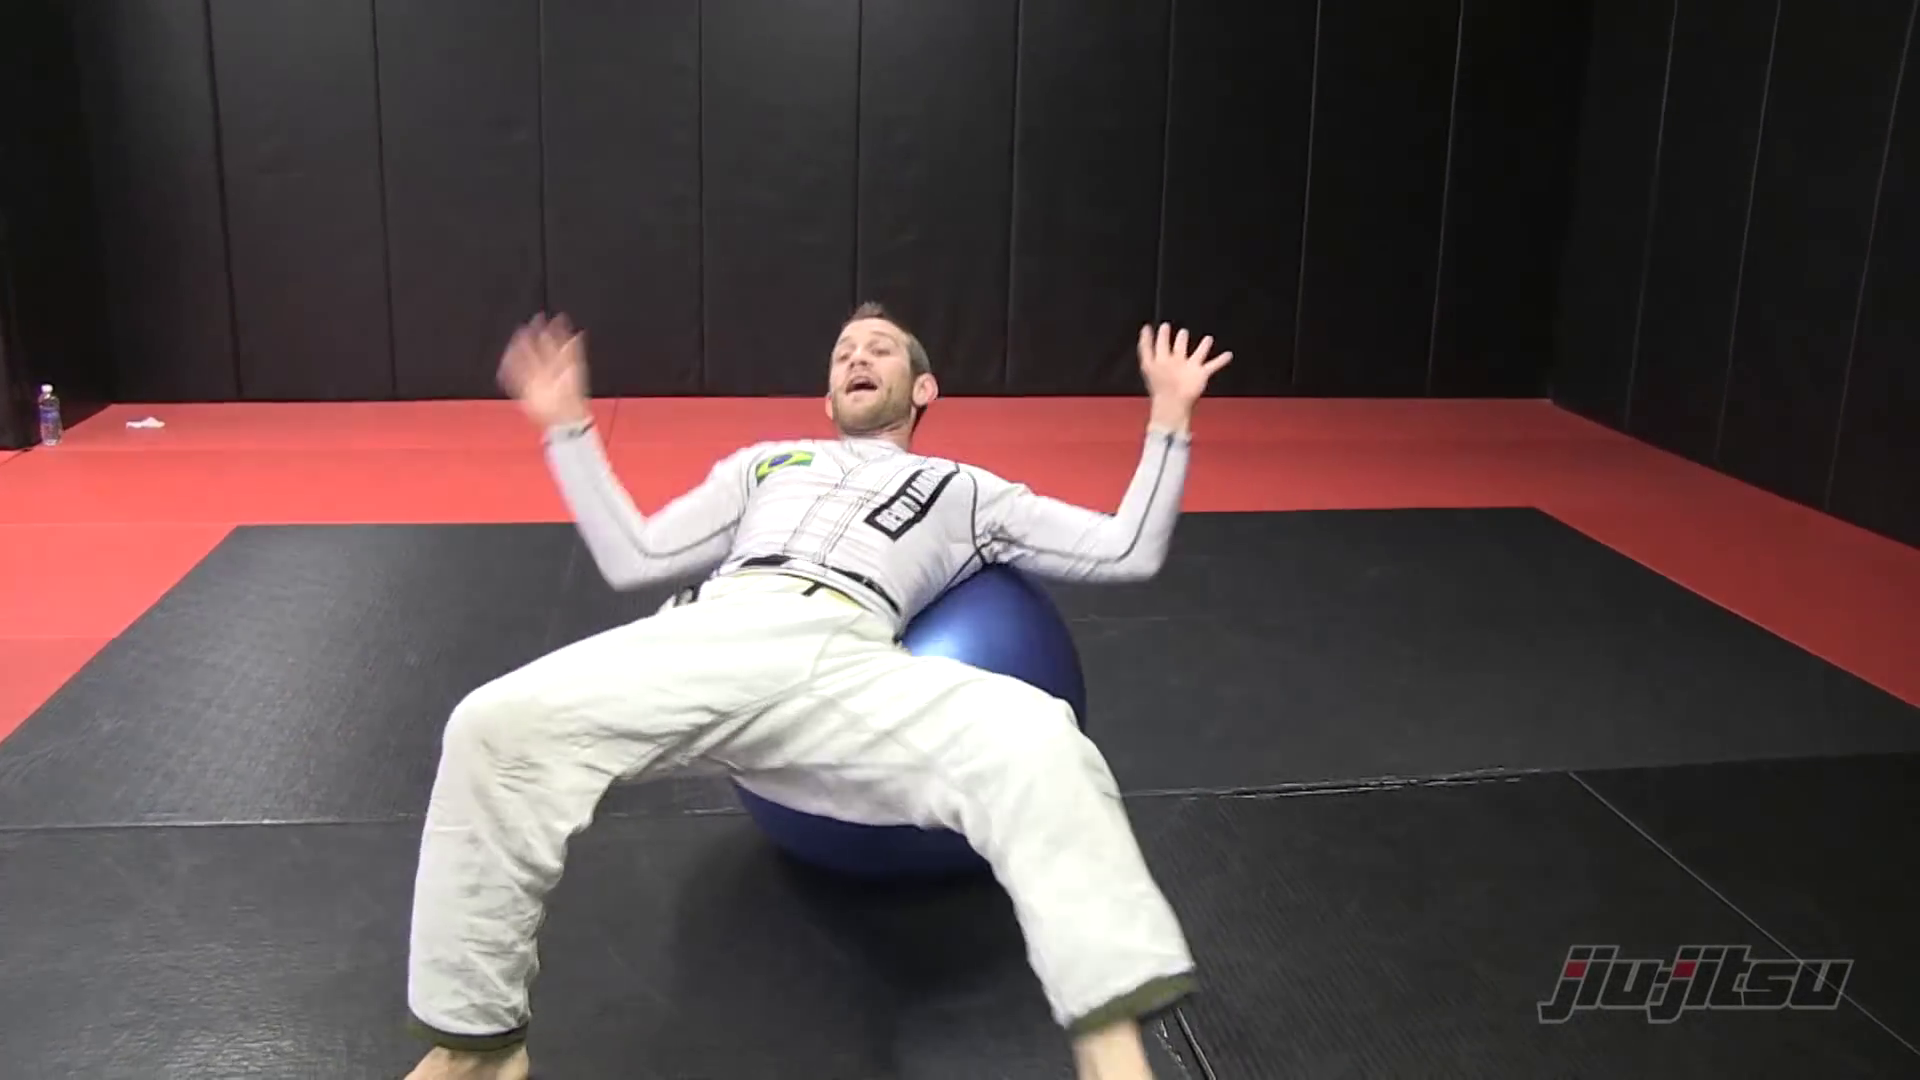yogaball: (775, 551, 1120, 887)
